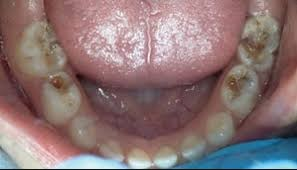LL1BC_decay: (225, 66, 259, 111)
LL2BC_decay: (240, 18, 282, 69)
LLCI_healthy: (152, 145, 180, 169)
LLC_healthy: (205, 112, 235, 145)
LLLI_healthy: (181, 135, 209, 160)
LR1BC_decay: (44, 74, 82, 120)
LR2BC_decay: (17, 23, 67, 72)
LRCI_healthy: (128, 146, 152, 168)
LRC_healthy: (72, 117, 97, 148)
LRLI_healthy: (99, 138, 124, 163)
